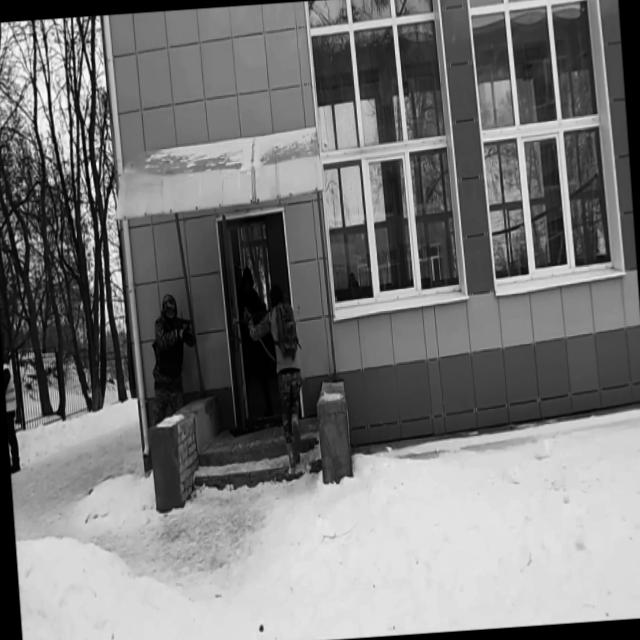gun: (163, 310, 194, 340), (236, 305, 274, 328)
person: (236, 265, 274, 418), (1, 350, 21, 474)
person with a gun: (234, 281, 308, 470), (146, 290, 202, 404)
